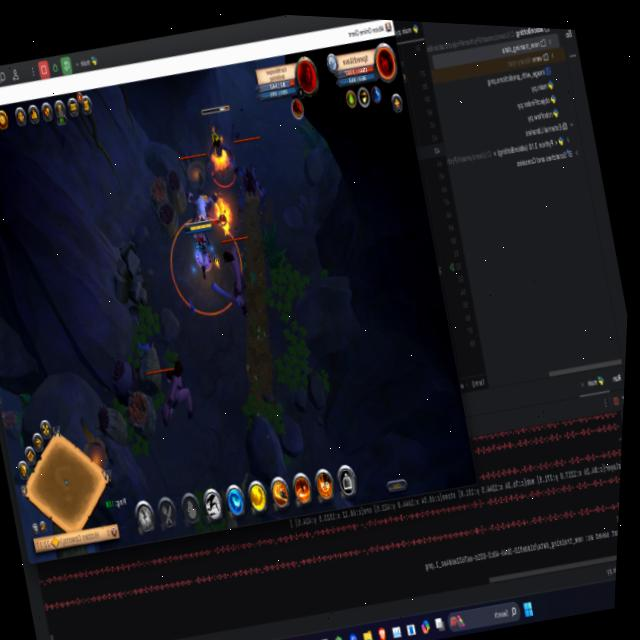ore: (187, 94, 256, 199), (131, 348, 208, 437), (217, 123, 280, 226), (212, 226, 269, 323), (171, 148, 227, 242)
red: (180, 216, 226, 289)
silver: (168, 212, 246, 317)
